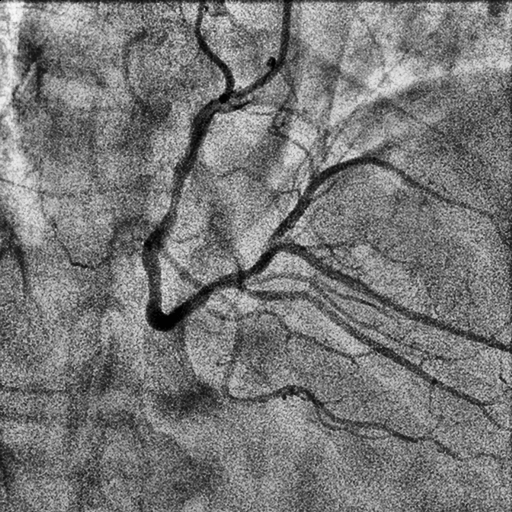pborca: (239, 156, 508, 282)
pda: (240, 285, 486, 408)
rca: (141, 87, 251, 332)
